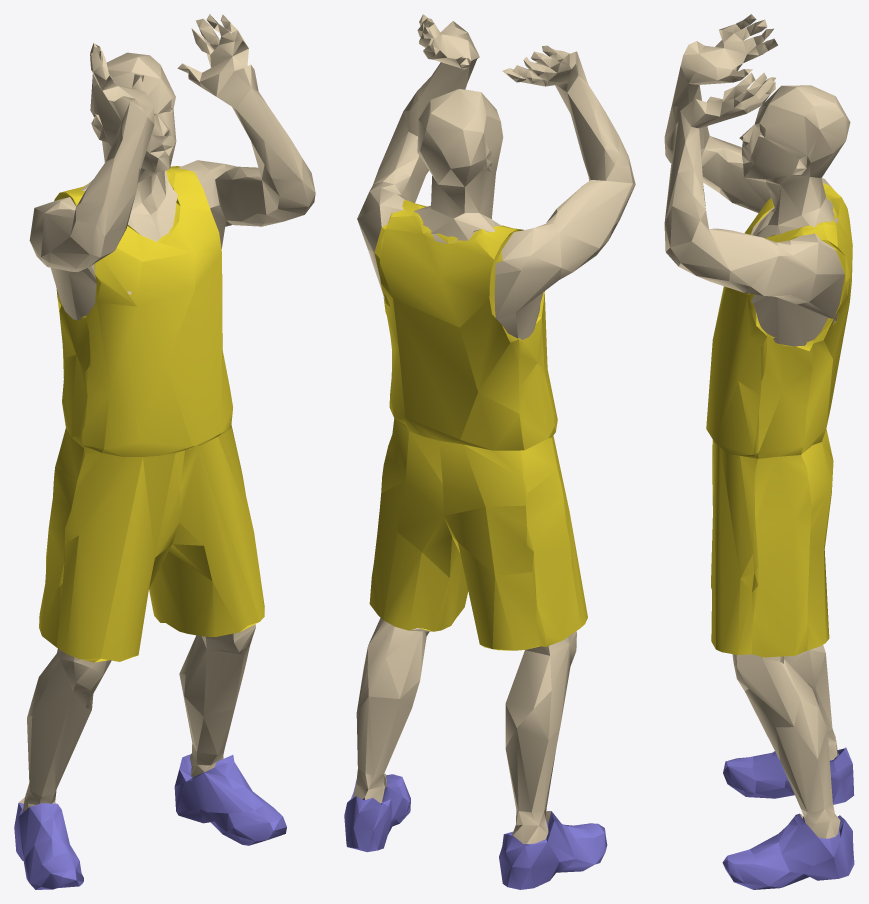
3 views of the same model, side by side, from view 1: azimuth 30°, elevation 25°; view 2: azimuth 150°, elevation 25°; view 3: azimuth 270°, elevation 25° (orthographic). The views are drawn at different scales.
Visible parts, largest first — view 1: 21511_Basketball_Player_Shooting, 21511_Basketball_Player_Shooting_21511_Basketball_Player_Sho; view 2: 21511_Basketball_Player_Shooting, 21511_Basketball_Player_Shooting_21511_Basketball_Player_Sho; view 3: 21511_Basketball_Player_Shooting, 21511_Basketball_Player_Shooting_21511_Basketball_Player_Sho.
Boxes of the visible parts, <box> form: 21511_Basketball_Player_Shooting: <box>14,166,286,889</box>; 21511_Basketball_Player_Shooting_21511_Basketball_Player_Sho: <box>19,14,315,811</box>; 21511_Basketball_Player_Shooting: <box>344,200,607,889</box>; 21511_Basketball_Player_Shooting_21511_Basketball_Player_Sho: <box>353,14,635,844</box>; 21511_Basketball_Player_Shooting: <box>706,183,854,889</box>; 21511_Basketball_Player_Shooting_21511_Basketball_Player_Sho: <box>664,14,850,838</box>.
Size of the model in its own units: 3.35 by 10.91 by 2.37.
